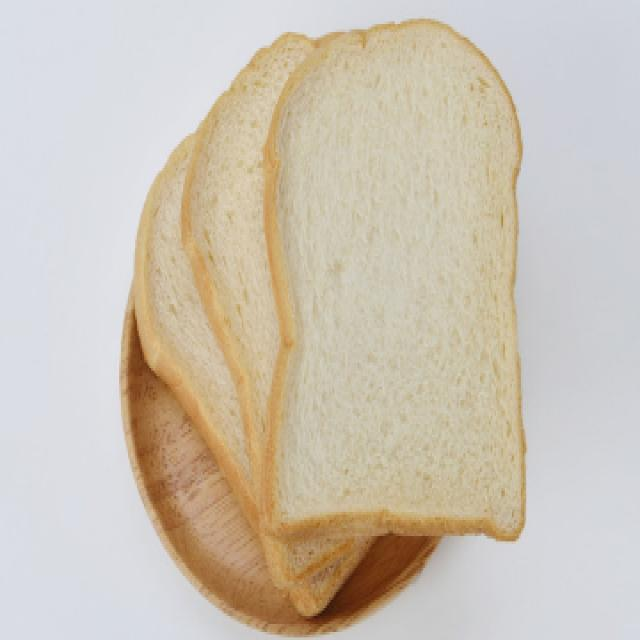Bread: (264, 21, 525, 539)
